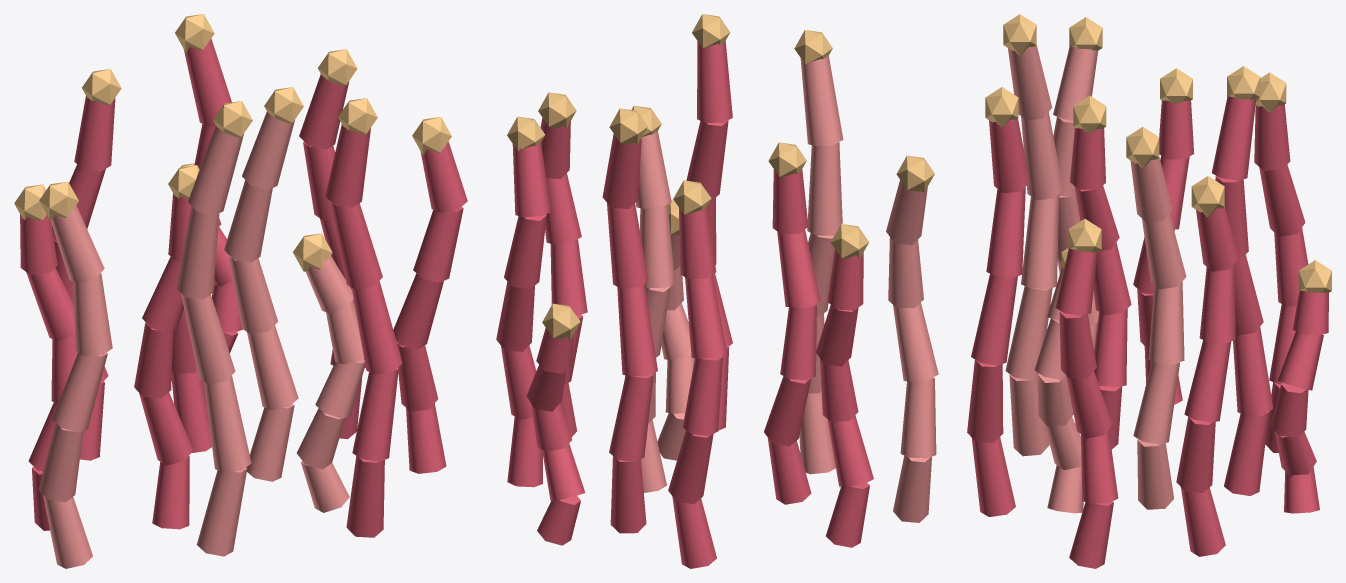
The model's file is 07-sea-rod-garden.glb.
3 renders of one model, left to right at view 1: azimuth 30°, elevation 25°; view 2: azimuth 150°, elevation 25°; view 3: azimuth 270°, elevation 25°, orthographic. The views are drawn at different scales.
Size of the model in its own units: 3.06 by 3.19 by 2.4.
